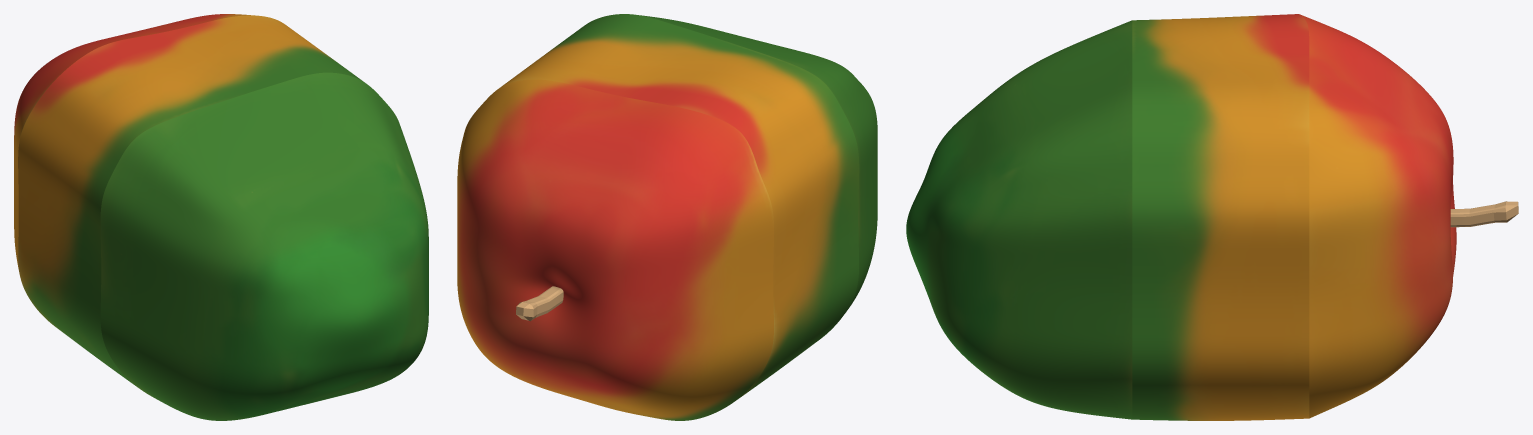
File: Mango valmis.fbx
3 views of the same model, side by side, from view 1: azimuth 30°, elevation 25°; view 2: azimuth 150°, elevation 25°; view 3: azimuth 270°, elevation 25° (orthographic). The views are drawn at different scales.
Visible parts, largest first — view 1: Cube.003, Cube, Cube.002; view 2: Cube.002, Cube, Cube.003, Cube.001; view 3: Cube, Cube.003, Cube.002, Cube.001.
Boxes of the visible parts, x1,y1,x2,y2 form: Cube.003: (100, 72, 428, 420); Cube: (18, 15, 363, 386); Cube.002: (14, 14, 254, 271); Cube.002: (457, 79, 773, 420); Cube: (501, 14, 859, 398); Cube.003: (638, 15, 877, 312); Cube.001: (516, 286, 563, 321); Cube: (1132, 14, 1309, 420); Cube.003: (906, 20, 1132, 419); Cube.002: (1300, 14, 1456, 418); Cube.001: (1450, 201, 1518, 227).
Size of the model in its own units: 211 by 206 by 346.
